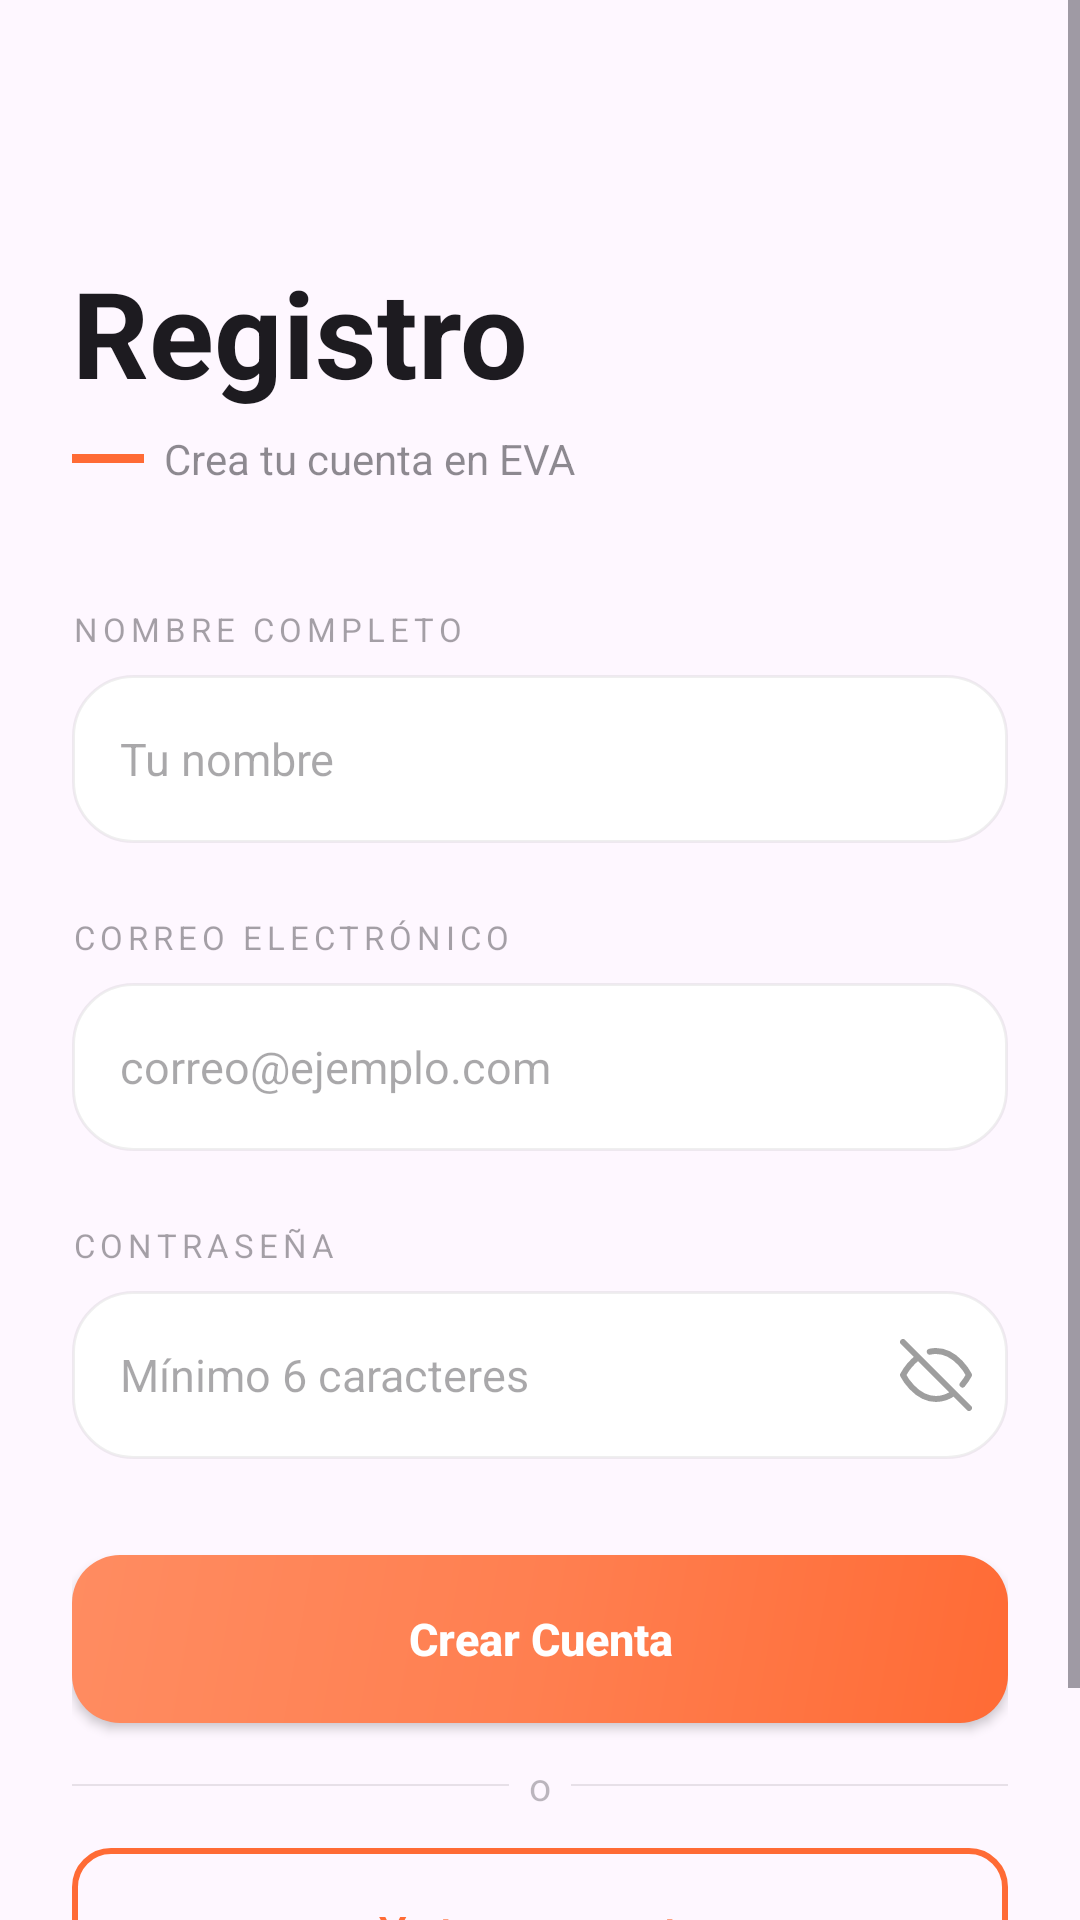

Named icons in this screenshot (1080x1920) and their centers, point (x, y):
Mostrar contraseña: point (936, 1375)
